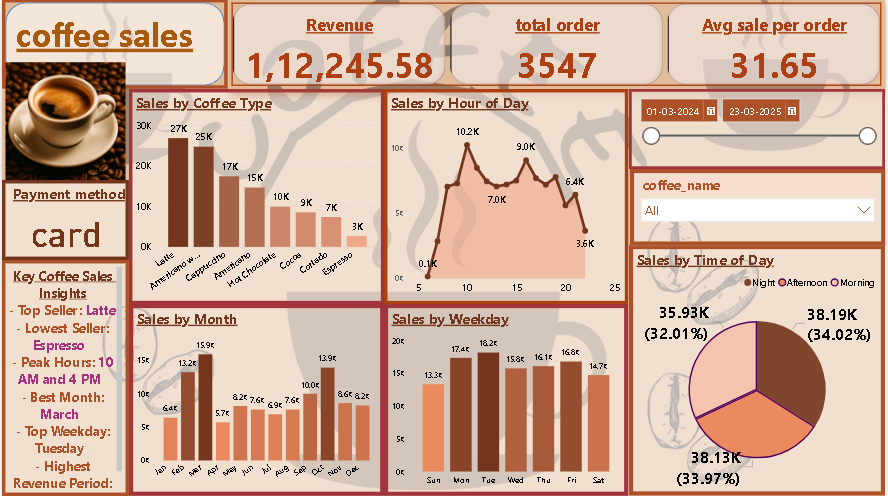

Layout of this report page (visuals, bound fields, positions):
{"tool":"powerbi","page":{"name":"Page 1","canvas":[1280,720],"ordinal":0},"visuals":[{"type":"columnChart","title":"Sales by Coffee Type ","fields":{"Category":["Coffe_sales.coffee_name"],"Y":["Sum(Coffe_sales.money)"]},"box":[184.3,130.4,369.9,311.8],"z":0},{"type":"cardVisual","fields":{"Data":["Sum(Coffe_sales.money)","Coffe_sales.total order","Coffe_sales.Avg sale per order"]},"box":[327.6,0,952.4,131],"z":1000},{"type":"areaChart","title":"Sales by Hour of Day ","fields":{"Y":["Coffe_sales.Revenue"],"Category":["Coffe_sales.hour_of_day"]},"box":[554.2,130.4,354.3,311.8],"z":2000},{"type":"pieChart","title":"Sales by Time of Day ","fields":{"Y":["Coffe_sales.Revenue"],"Category":["Coffe_sales.Time_of_Day"]},"box":[908.5,357.2,371.3,362.8],"z":3000},{"type":"columnChart","title":"Sales by  Month","fields":{"Category":["Coffe_sales.Month_name"],"Y":["Coffe_sales.Revenue"]},"box":[184.3,442.2,369.9,277.8],"z":4000},{"type":"columnChart","title":"Sales by  Weekday","fields":{"Category":["Coffe_sales.Weekday"],"Y":["Coffe_sales.Revenue"]},"box":[554.2,442.2,354.3,277.8],"z":5000},{"type":"slicer","fields":{"Values":["Coffe_sales.Date"]},"box":[908.5,130.4,371.3,116.2],"z":6000},{"type":"slicer","fields":{"Values":["Coffe_sales.coffee_name"]},"box":[909.9,246.6,369.9,110.6],"z":7000},{"type":"shape","box":[0,0,327.4,130.4],"z":8000},{"type":"image","box":[0,82.2,184.3,192.8],"z":8500},{"type":"textbox","box":[15.6,12.8,296.2,83.6],"z":9000},{"type":"card","title":"Payment method ","fields":{"Values":["Min(Coffe_sales.cash_type)"]},"box":[0,262.2,184.3,116.2],"z":11000},{"type":"textbox","box":[0,378.4,184.3,341.6],"z":11001}]}

Visuals, with their boxes in screenshot pixels (x1, y1, x2, y2), scaled from the page's 1280x720 canvas onto the 888x496 screenshot:
"Sales by Coffee Type " columnChart: rect(128, 90, 384, 305)
cardVisual - Sum(Coffe_sales.money) x Coffe_sales.total order: rect(227, 0, 887, 90)
"Sales by Hour of Day " areaChart: rect(384, 90, 630, 305)
"Sales by Time of Day " pieChart: rect(630, 246, 887, 495)
"Sales by  Month" columnChart: rect(128, 305, 384, 495)
"Sales by  Weekday" columnChart: rect(384, 305, 630, 495)
slicer - Coffe_sales.Date: rect(630, 90, 887, 170)
slicer - Coffe_sales.coffee_name: rect(631, 170, 887, 246)
shape: rect(0, 0, 227, 90)
image: rect(0, 57, 128, 189)
textbox: rect(11, 9, 216, 66)
"Payment method " card: rect(0, 181, 128, 261)
textbox: rect(0, 261, 128, 495)
